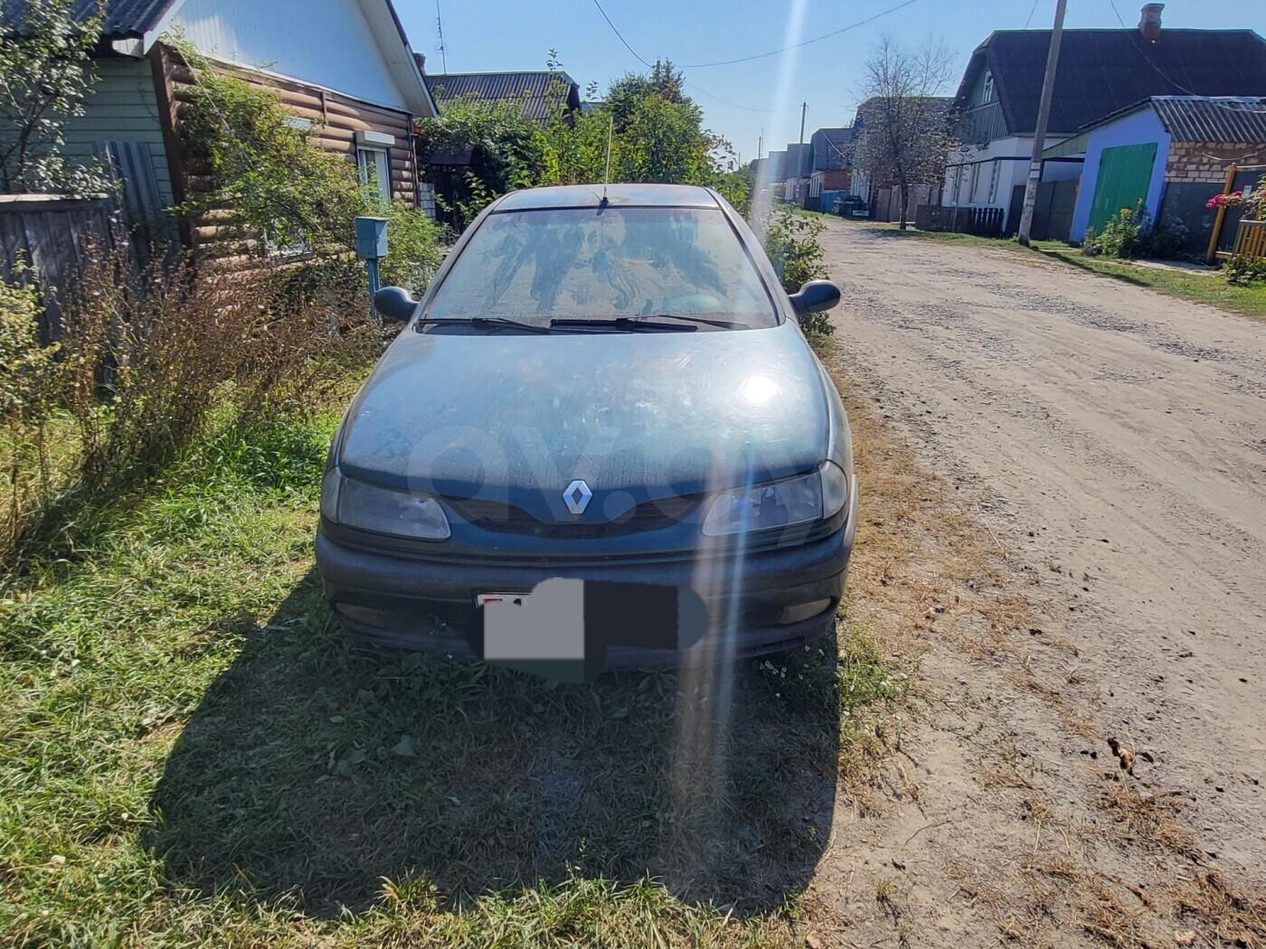Lahuna_1993-1999: (326, 181, 867, 683)
